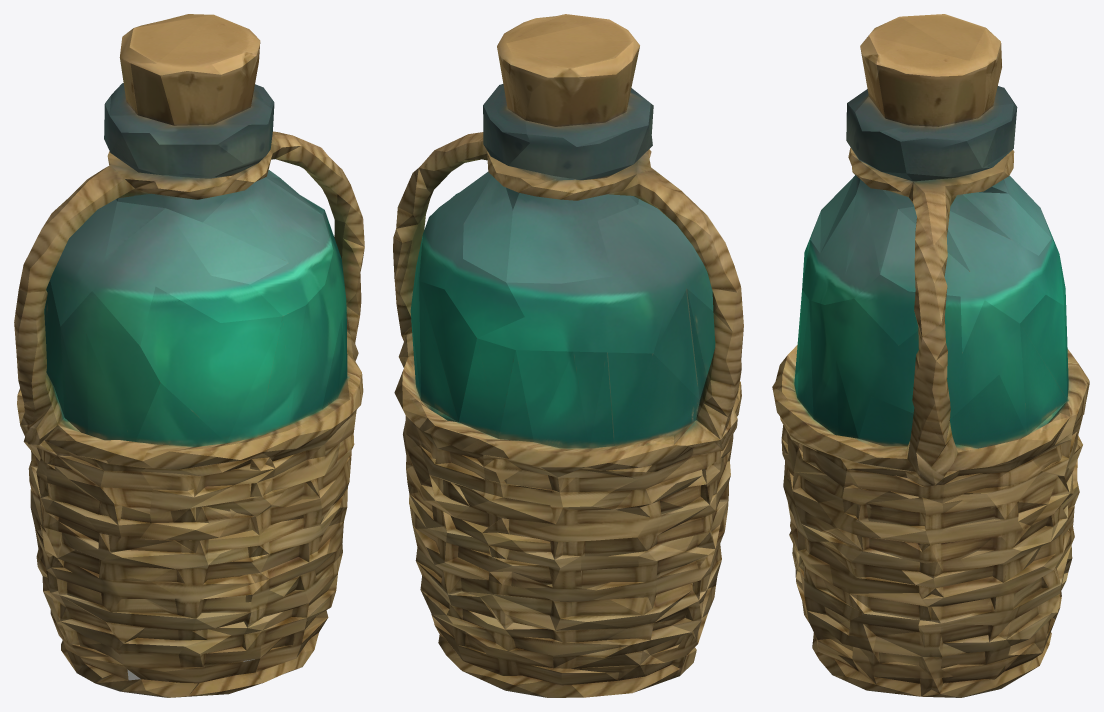
Rendered from potion_large.glb.
3 renders of one model, left to right at view 1: azimuth 30°, elevation 25°; view 2: azimuth 150°, elevation 25°; view 3: azimuth 270°, elevation 25°, orthographic.
Parts seen in each view (by area): view 1: Mesh_0; view 2: Mesh_0; view 3: Mesh_0.
Boxes of the visible parts, x1,y1,x2,y2 form: Mesh_0: (14, 14, 364, 697); Mesh_0: (393, 14, 743, 697); Mesh_0: (772, 14, 1089, 697).
Size of the model in its own units: 0.2854 by 0.48 by 0.2278.
1 material, 1 textured.
